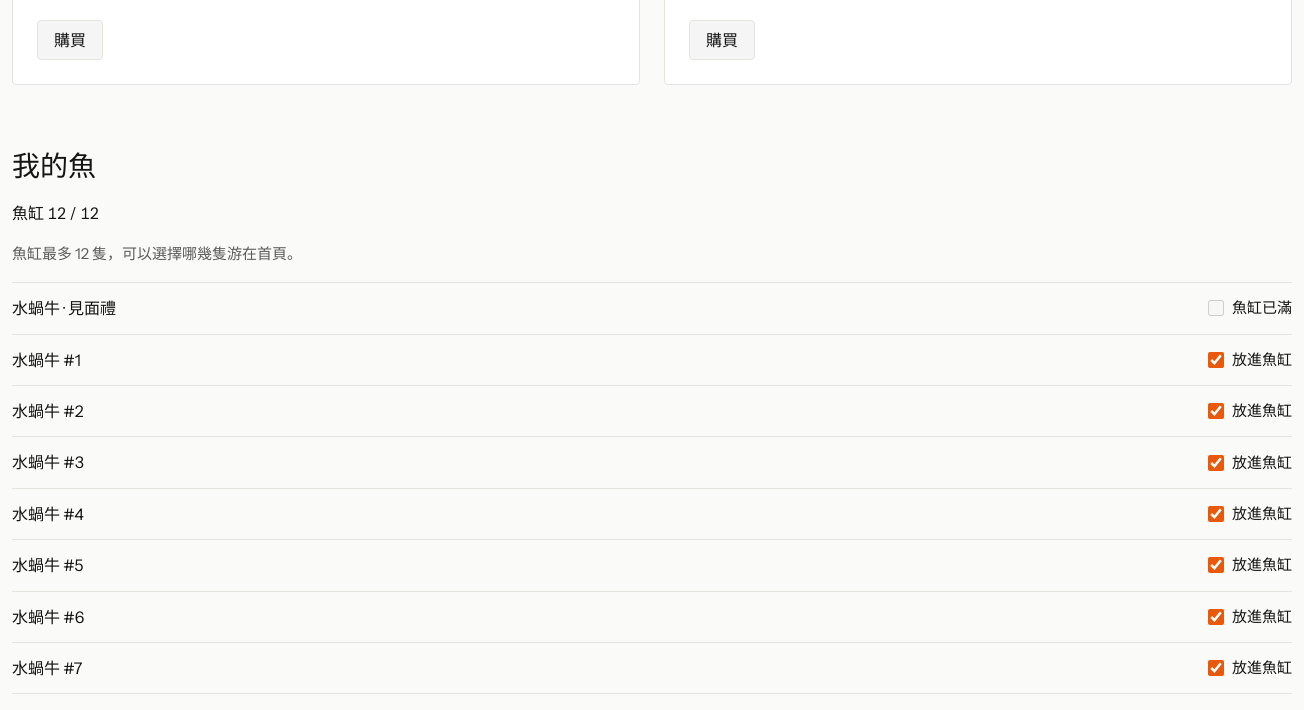
Scenario: ShopView › chooses which fish swim, up to the aquarium's size
The image size is (1304, 710).
(page scrolled)
Expected: the text "魚缸 12 / 12" is shown, x1=12 y1=203 x2=99 y2=223
Expected: the checkbox labelled "魚缸已滿" is disabled, x1=1208 y1=300 x2=1224 y2=316
Click the 1st checkbox labelled "放進魚缸".
click(1216, 360)  # box x1=1208 y1=352 x2=1224 y2=368
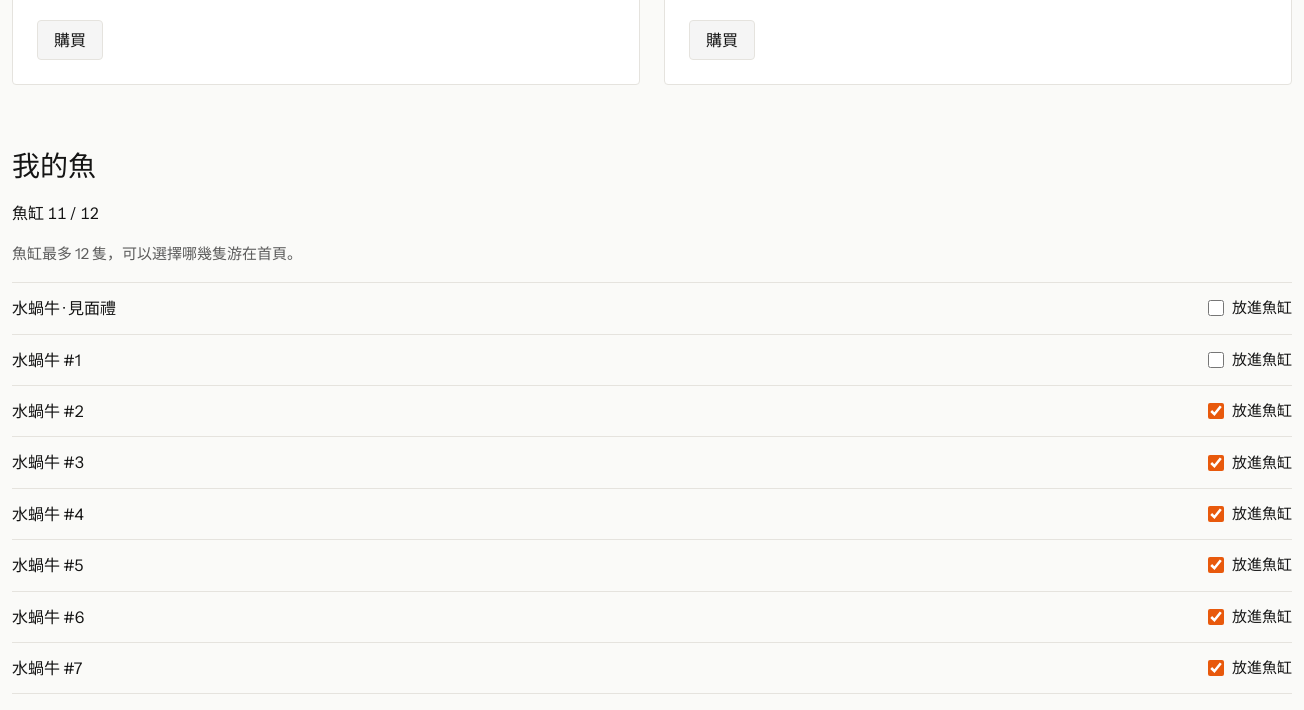
Expected: the text "魚缸 11 / 12" is shown, x1=12 y1=203 x2=99 y2=223
